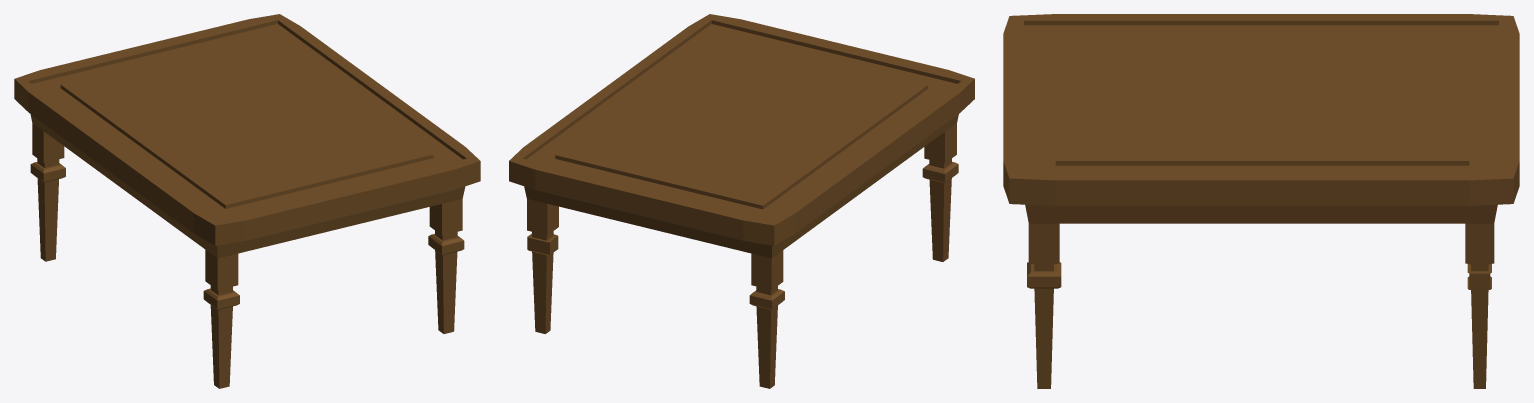
Rendered from tableWyrm.fbx.
The picture shows the model from 3 angles, left to right: view 1: azimuth 30°, elevation 25°; view 2: azimuth 150°, elevation 25°; view 3: azimuth 270°, elevation 25°; orthographic projection. The views are drawn at different scales.
Visible parts, largest first — view 1: Cube.005; view 2: Cube.005; view 3: Cube.005.
Part boxes in pixels (x1,y1,x2,y2): Cube.005: (14, 14, 480, 388); Cube.005: (509, 14, 974, 388); Cube.005: (1003, 14, 1519, 388).
Size of the model in its own units: 127 by 96.98 by 59.75.
